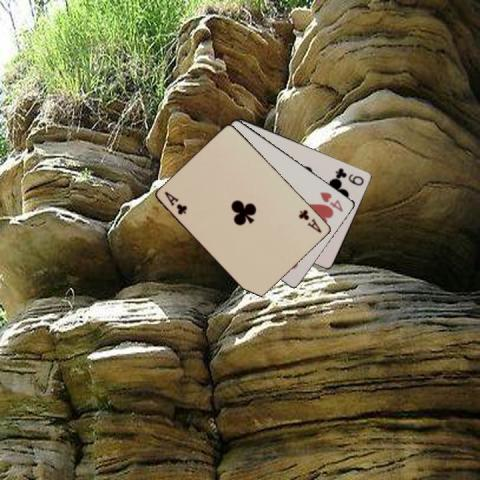4h: (317, 189, 345, 213)
9c: (333, 164, 365, 186)
Ac: (161, 189, 189, 216), (296, 207, 323, 234)
